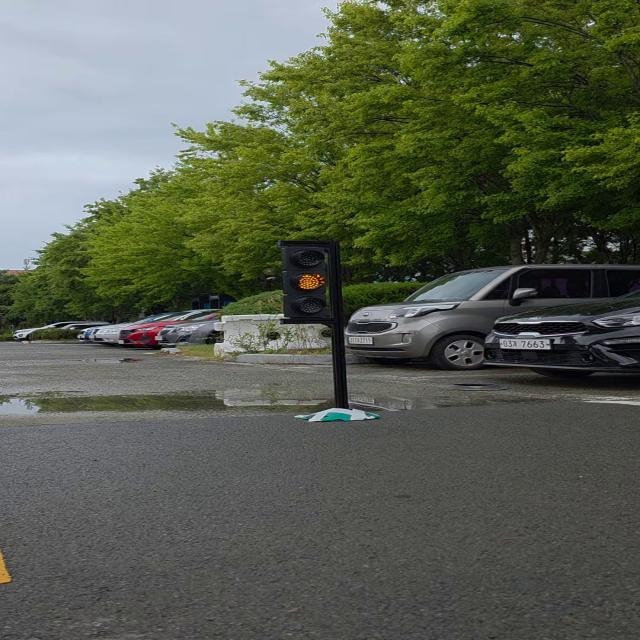yellow: (276, 237, 344, 325)
